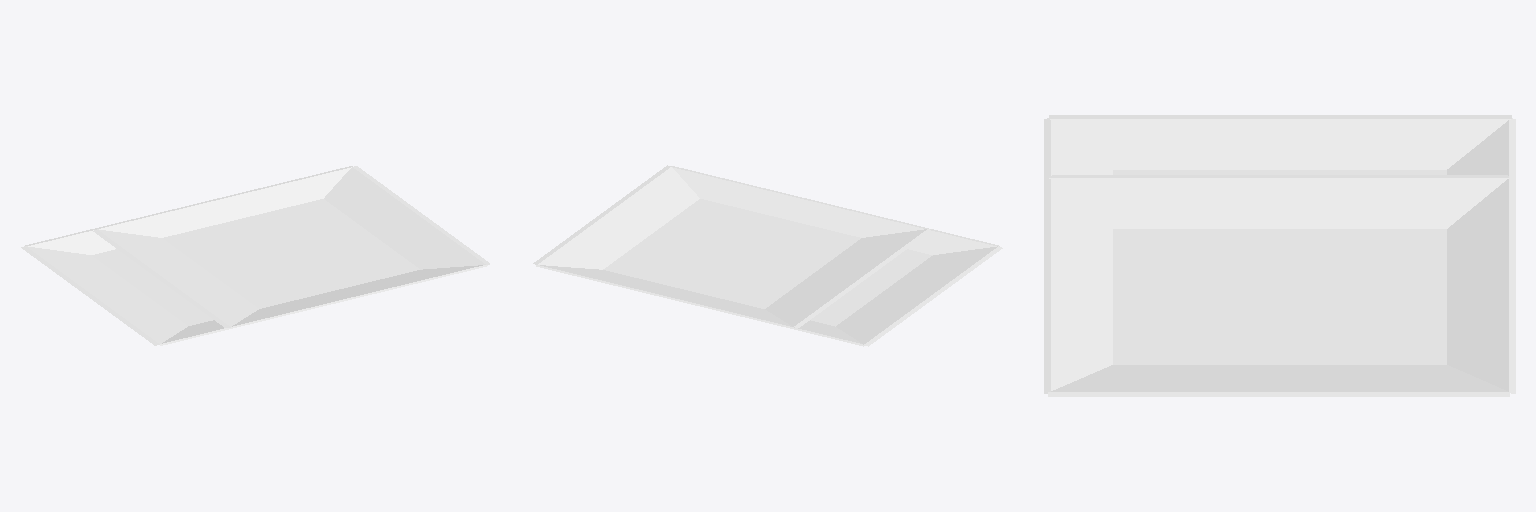
The robot description file, URDF, robot "tray":
<robot name="tray">
  <link name="tray_base_link">
    <contact>
      <lateral_friction value="0.5"/>
      <rolling_friction value="0.0"/>
      <contact_cfm value="0.0"/>
      <contact_erp value="1.0"/>
    </contact>
    <inertial>
      <origin rpy="0 0 0" xyz="0 0 0"/>
      <mass value="0"/>
      <inertia ixx="0" ixy="0" ixz="0" iyy="0" iyz="0" izz="0"/>
    </inertial>
    <visual>
      <origin rpy="0 0 0" xyz="0 0 0"/>
      <geometry>
        <mesh filename="tray_textured_dark.obj" scale="1.1 0.75 0.1"/>
      </geometry>
      <material name="tray_material">
        <color rgba="1 1 1 1"/>
      </material>
    </visual>
    <collision>
      <origin rpy="0 0 0" xyz="0 0 0"/>
      <geometry>
        <mesh filename="tray_textured_dark.obj" scale="1.1 0.75 0.1"/>
      </geometry>
    </collision>
  </link>
</robot>

--- What the picture shows (computed from the rendered views, not written in the file) ---
3 views of the same robot in one strip: view 1: azimuth 30°, elevation 25°; view 2: azimuth 150°, elevation 25°; view 3: azimuth 270°, elevation 25° (orthographic).
Model tray with 1 links and 0 joints (none), rooted at tray_base_link, posed all joints at 0.
Visible links, largest first — view 1: tray_base_link; view 2: tray_base_link; view 3: tray_base_link.
Boxes of the visible links, bbox=[...] form: tray_base_link: bbox=[21, 166, 489, 345]; tray_base_link: bbox=[533, 165, 1002, 346]; tray_base_link: bbox=[1044, 115, 1515, 396].
Bounding box of the posed robot: 1.31 × 0.9232 × 0.0277 m (x, y, z).
Meshes: 1 distinct files referenced, 1 mesh visuals loaded (1 OBJ).
